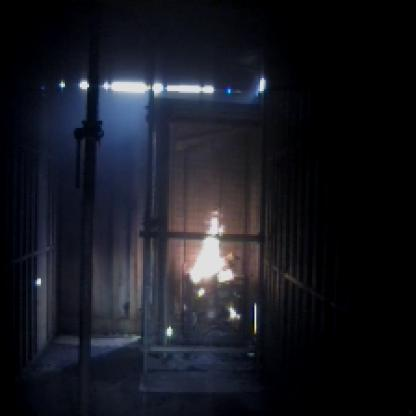Fire: (174, 206, 240, 320)
